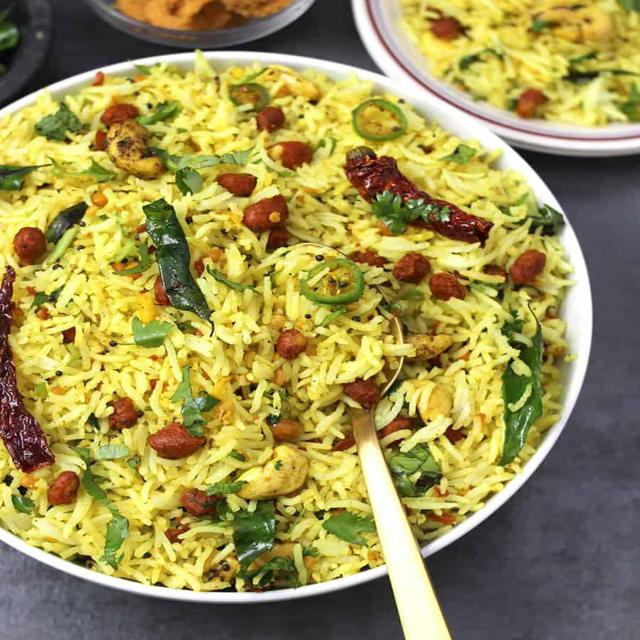lemon rice: (0, 44, 578, 596), (386, 0, 640, 142)
